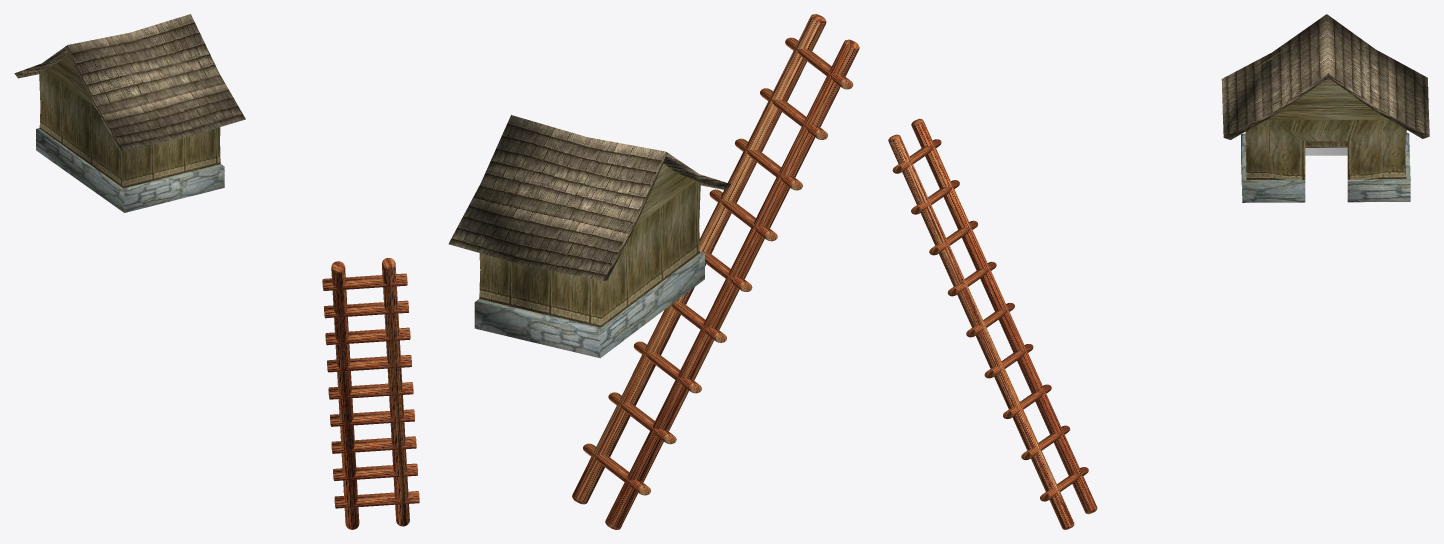
File: lom_model2.fbx
3 renders of one model, left to right at view 1: azimuth 30°, elevation 25°; view 2: azimuth 150°, elevation 25°; view 3: azimuth 270°, elevation 25°, orthographic. The views are drawn at different scales.
Visible parts, largest first — view 1: chatka2, zebrik2; view 2: chatka2, zebrik2; view 3: chatka2, zebrik2.
Part boxes in pixels (bbox=[...]): chatka2: bbox=[14, 14, 245, 212]; zebrik2: bbox=[322, 258, 419, 529]; chatka2: bbox=[448, 115, 730, 358]; zebrik2: bbox=[572, 14, 859, 529]; chatka2: bbox=[1221, 14, 1429, 202]; zebrik2: bbox=[888, 118, 1097, 529].
Size of the model in its own units: 2.09 by 4.12 by 4.79.
2 materials, 2 textured.
